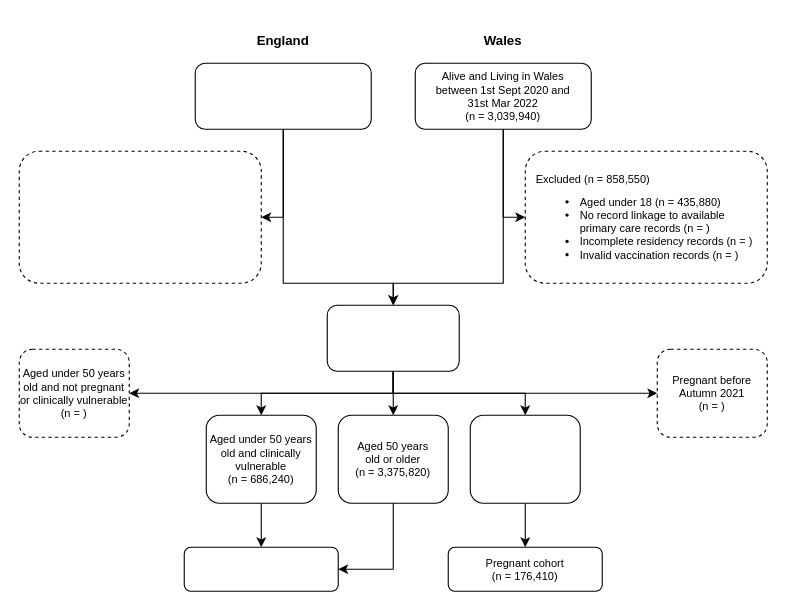
Some shapes in this 787 by 611 pixel diagram are drawn without their labels. Each missing label, with the centre of its shape:
Combined England and Wales cohort (n = 4,238,470): (x=392, y=337)
Excluded ( n = ): (x=139, y=216)
Grey and vulnerable cohort (n = 4,062,060): (x=260, y=568)
Pregnant between Autumn 2021 and Spring 2022 (n = ): (x=524, y=458)
